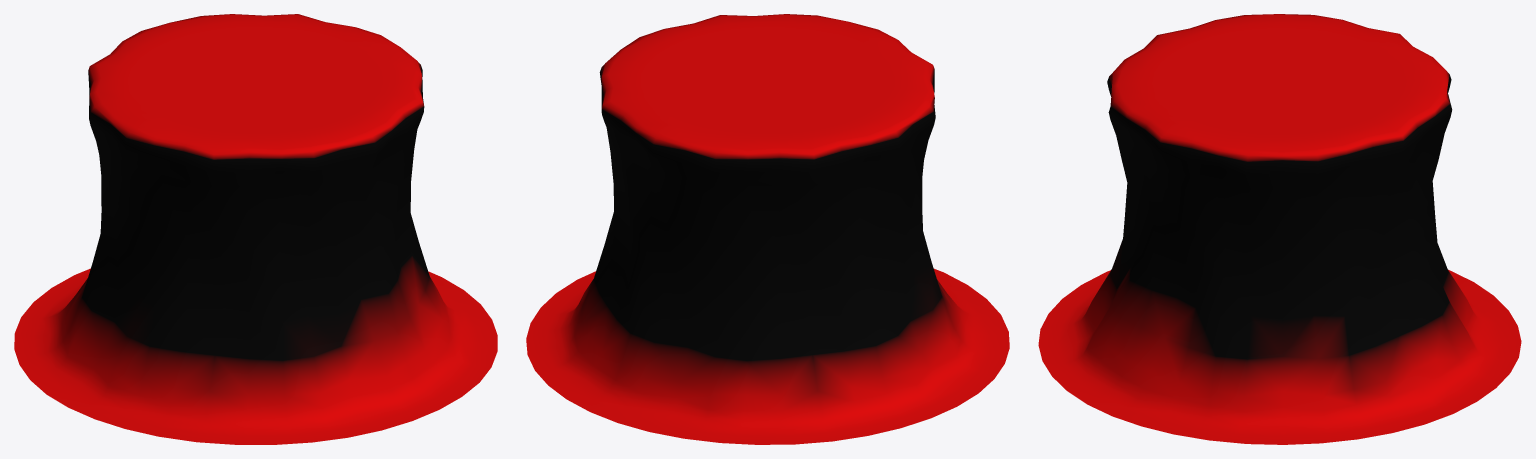
File: GroundObject08C.fbx
3 renders of one model, left to right at view 1: azimuth 30°, elevation 25°; view 2: azimuth 150°, elevation 25°; view 3: azimuth 270°, elevation 25°, orthographic.
Visible parts, largest first — view 1: GroundObject08C; view 2: GroundObject08C; view 3: GroundObject08C.
Part boxes in pixels (x1,y1,x2,y2): GroundObject08C: [14, 14, 497, 444]; GroundObject08C: [526, 14, 1009, 444]; GroundObject08C: [1038, 14, 1521, 444].
Size of the model in its own units: 1.68 by 1 by 1.68.
